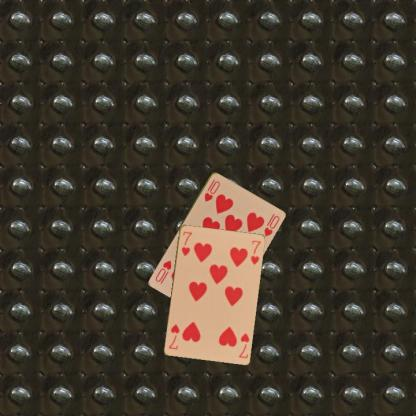10h: (202, 176, 221, 203)
7h: (236, 330, 250, 360), (179, 229, 193, 256)
